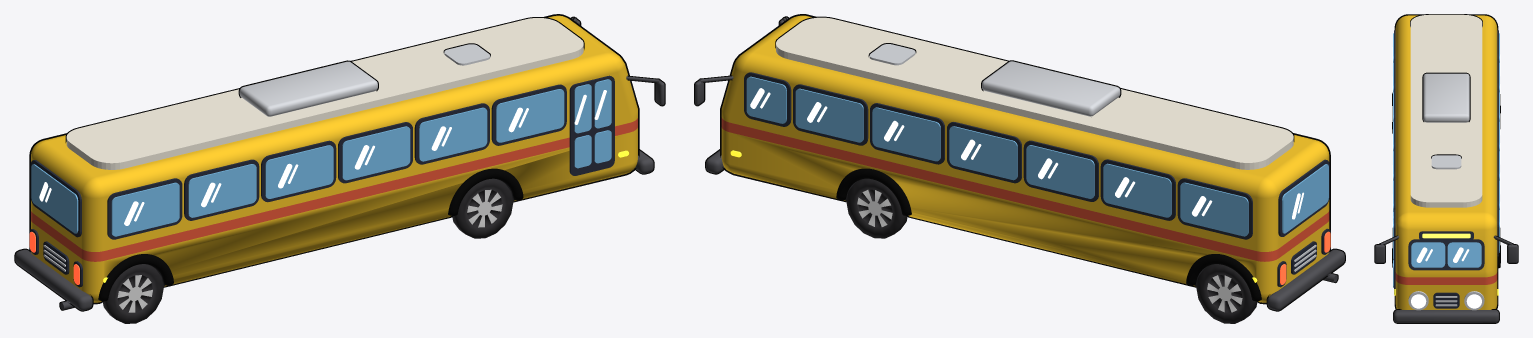
The model's file is BusComplete.fbx.
The picture shows the model from 3 angles, left to right: view 1: azimuth 30°, elevation 25°; view 2: azimuth 150°, elevation 25°; view 3: azimuth 270°, elevation 25°; orthographic projection. The views are drawn at different scales.
Parts seen in each view (by area): view 1: Bus_Body, Bus_Parts, Bus_Trim, Wheel_RR, Wheel_FR; view 2: Bus_Body, Bus_Parts, Bus_Trim, Wheel_FL, Wheel_RL; view 3: Bus_Parts, Bus_Body, Bus_Trim.
Part boxes in pixels (box(x1,y1,x2,y2)): Bus_Body: box(29, 14, 639, 304); Bus_Parts: box(14, 16, 665, 311); Bus_Trim: box(29, 75, 635, 287); Wheel_RR: box(103, 264, 163, 323); Wheel_FR: box(452, 178, 513, 238); Bus_Body: box(720, 14, 1330, 304); Bus_Parts: box(694, 16, 1345, 311); Bus_Trim: box(724, 72, 1330, 287); Wheel_FL: box(846, 178, 907, 238); Wheel_RL: box(1196, 264, 1257, 323); Bus_Parts: box(1374, 14, 1518, 323); Bus_Body: box(1394, 14, 1498, 309); Bus_Trim: box(1392, 30, 1500, 310).
Bounding box in the file's own units: 24.91 × 6.86 × 6.84.
